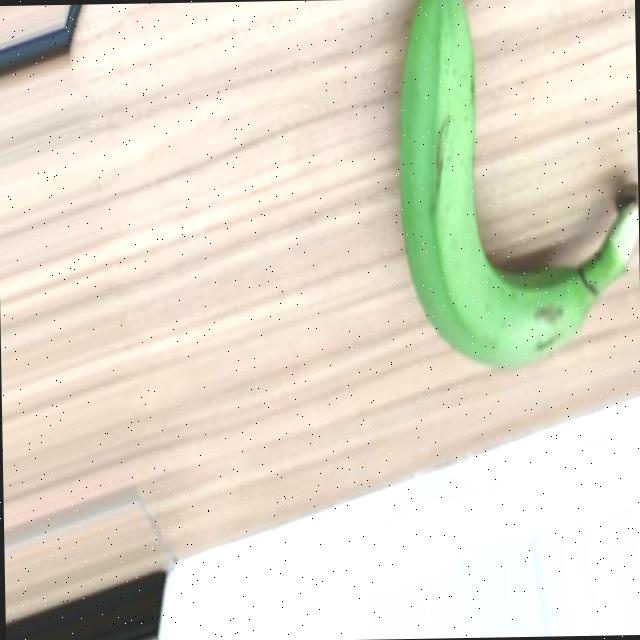Unripe: (393, 0, 640, 373)
